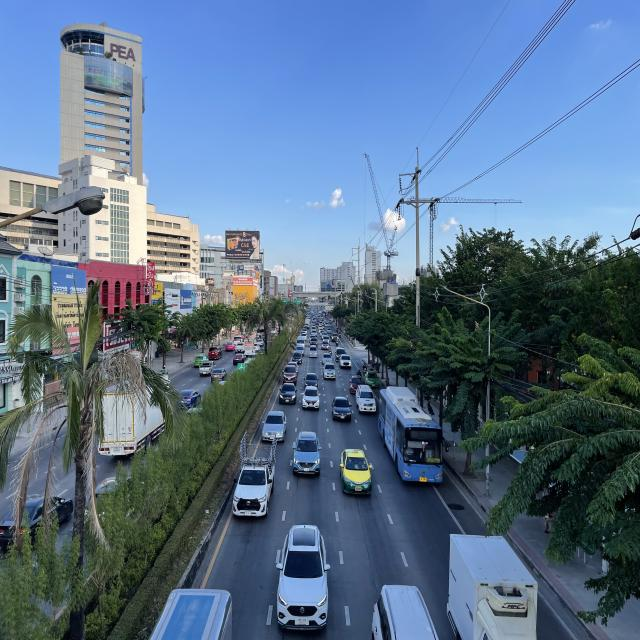bike: (362, 362, 367, 376)
bus: (378, 384, 448, 486)
car: (275, 524, 332, 636), (370, 582, 440, 640), (339, 447, 373, 497), (292, 431, 322, 478), (261, 410, 288, 442), (332, 396, 351, 422), (302, 386, 321, 411), (279, 382, 297, 404), (303, 372, 319, 388)
truck: (446, 531, 540, 640), (230, 431, 278, 521), (355, 384, 377, 415), (323, 358, 337, 381)
